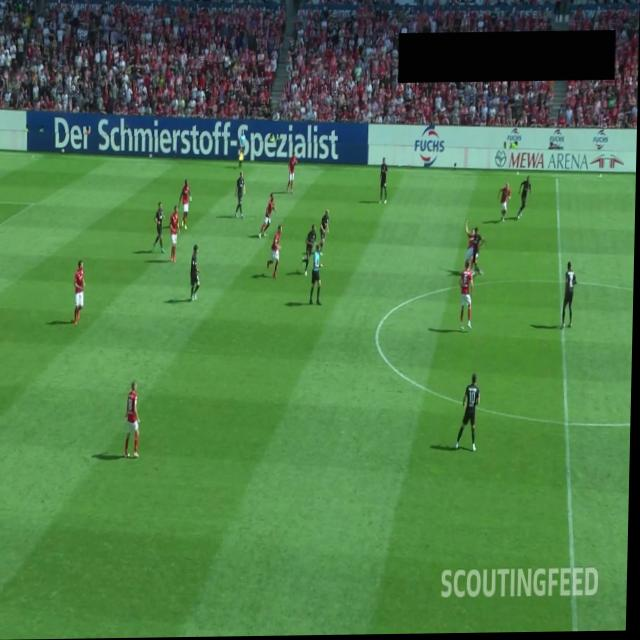player: (457, 374, 482, 453), (126, 381, 143, 460), (562, 263, 579, 331), (460, 261, 475, 333), (260, 194, 279, 240), (74, 260, 87, 326), (268, 226, 283, 280), (179, 179, 194, 231), (169, 205, 182, 263), (465, 220, 478, 275), (304, 225, 318, 276), (472, 227, 486, 277), (191, 245, 203, 303), (518, 176, 533, 221), (155, 202, 167, 254), (498, 182, 513, 223), (235, 171, 247, 219), (379, 157, 390, 206), (321, 209, 331, 253), (288, 153, 298, 195)
referee: (311, 243, 326, 307), (238, 131, 247, 170)
